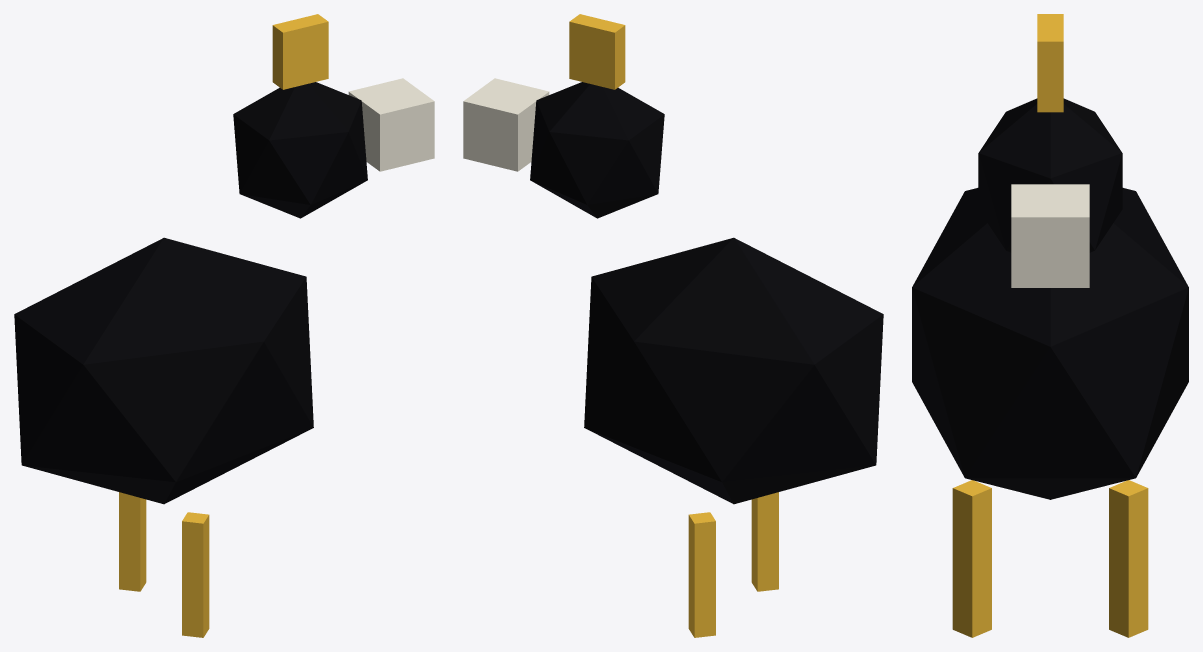
The model's file is Mob_OR_DicebeakHen_01.glb.
The picture shows the model from 3 angles, left to right: view 1: azimuth 30°, elevation 25°; view 2: azimuth 150°, elevation 25°; view 3: azimuth 270°, elevation 25°; orthographic projection. The views are drawn at different scales.
Visible parts, largest first — view 1: Mob_OR_DicebeakHen_01; view 2: Mob_OR_DicebeakHen_01; view 3: Mob_OR_DicebeakHen_01.
Part boxes in pixels (x1,y1,x2,y2): Mob_OR_DicebeakHen_01: (14, 14, 434, 637); Mob_OR_DicebeakHen_01: (463, 14, 883, 637); Mob_OR_DicebeakHen_01: (912, 14, 1188, 637).
Bounding box in the file's own units: 0.4365 × 0.58 × 0.2127.
